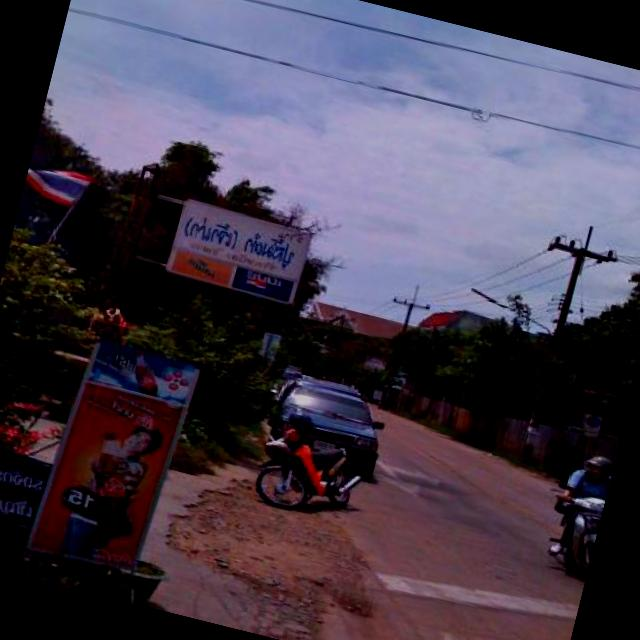Person: (57, 410, 159, 570), (536, 447, 615, 568)
